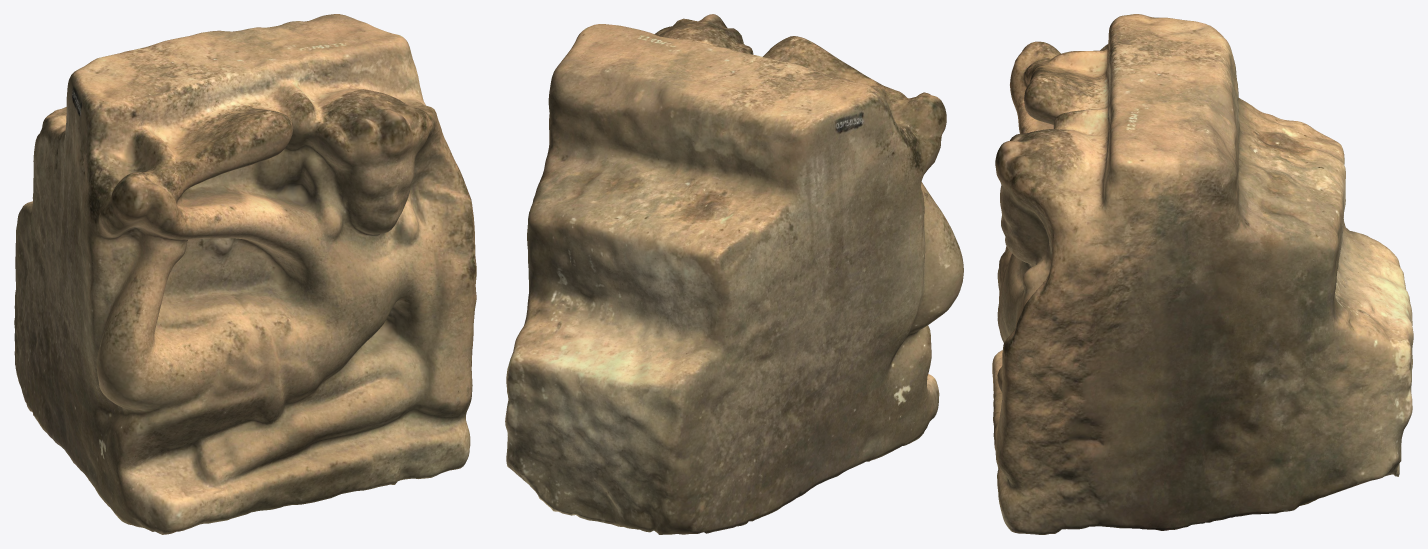
File: 27_MysonSanctuaryD2_chiensibay_final.glb
The picture shows the model from 3 angles, left to right: view 1: azimuth 30°, elevation 25°; view 2: azimuth 150°, elevation 25°; view 3: azimuth 270°, elevation 25°; orthographic projection. The views are drawn at different scales.
Size of the model in its own units: 0.4085 by 0.4184 by 0.4183.
1 material, 1 textured.
